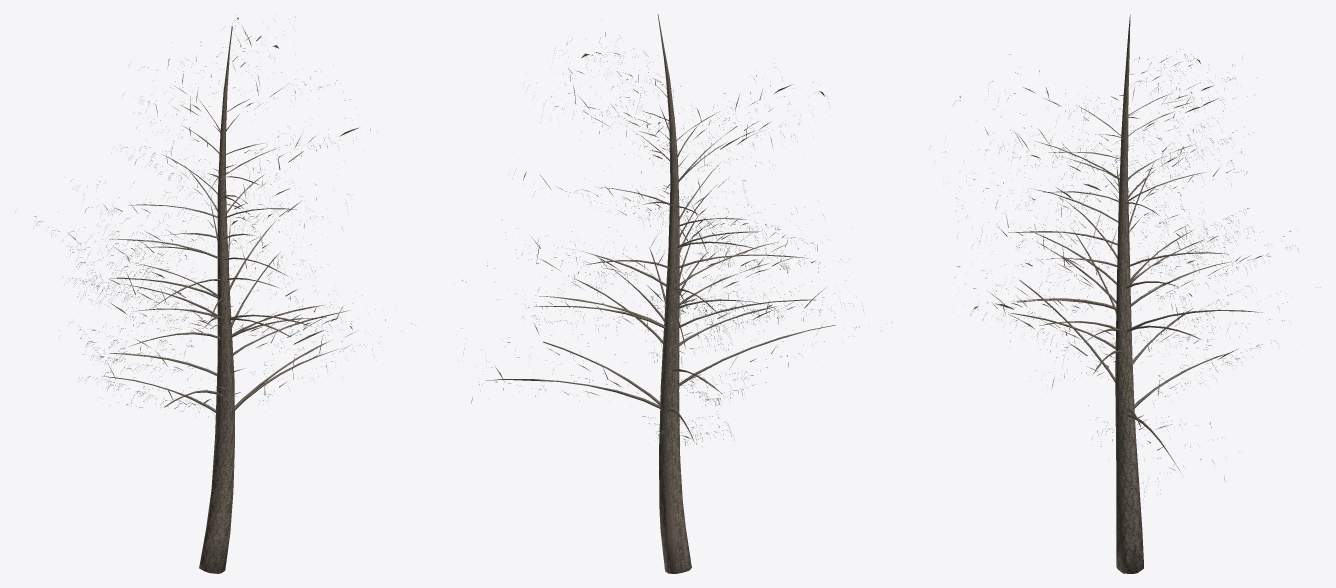
The model's file is casuarina-3-lite.glb.
The picture shows the model from 3 angles, left to right: view 1: azimuth 30°, elevation 25°; view 2: azimuth 150°, elevation 25°; view 3: azimuth 270°, elevation 25°; orthographic projection. The views are drawn at different scales.
Parts seen in each view (by area): view 1: bark, branchlets; view 2: bark, branchlets; view 3: bark, branchlets.
Part boxes in pixels (x1,y1,x2,y2): bark: [67, 26, 359, 573]; branchlets: [34, 17, 411, 416]; bark: [485, 14, 835, 573]; branchlets: [460, 20, 892, 446]; bark: [984, 14, 1262, 573]; branchlets: [931, 49, 1320, 496].
Bounding box in the file's own units: 5.75 × 7.83 × 4.95.
2 materials, 2 textured.
